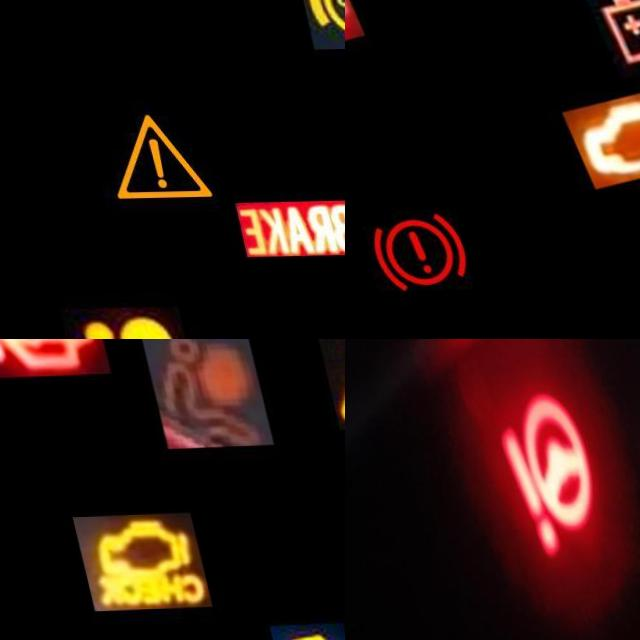Central Warning lamp: (71, 98, 209, 218)
Electronic Power Steering: (465, 357, 594, 570)
